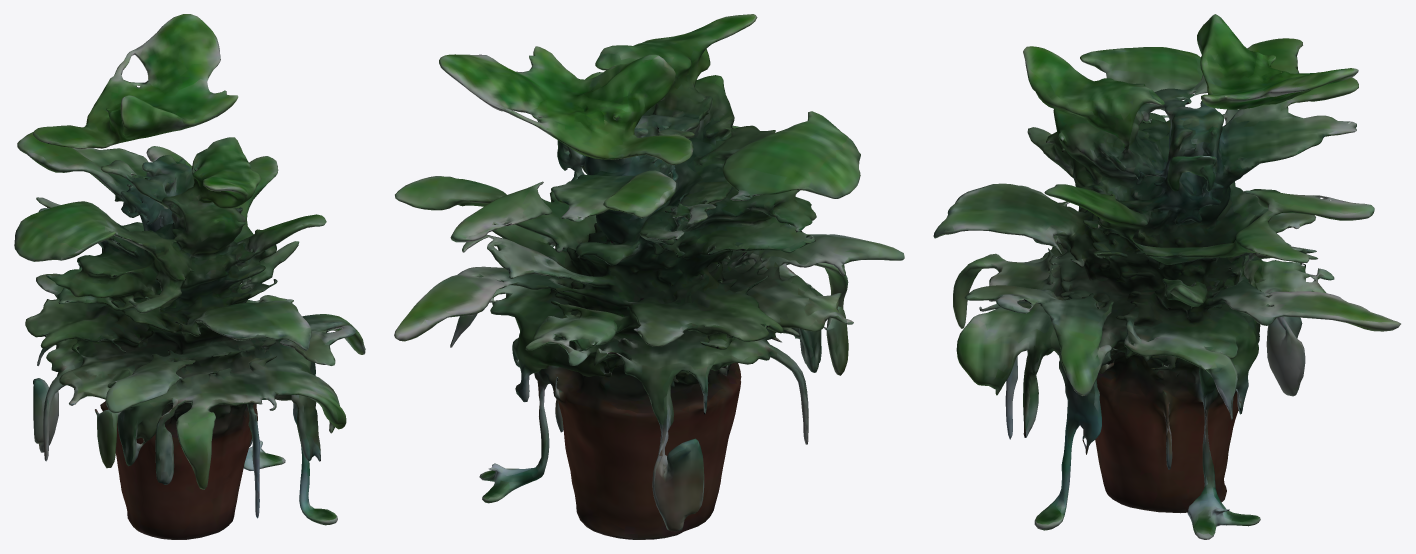
Rendered from 1da76f8f32f4_indoor_plant_in_pai.fbx.
3 views of the same model, side by side, from view 1: azimuth 30°, elevation 25°; view 2: azimuth 150°, elevation 25°; view 3: azimuth 270°, elevation 25° (orthographic). The views are drawn at different scales.
Visible parts, largest first — view 1: high_poly; view 2: high_poly; view 3: high_poly.
Boxes of the visible parts, box(x1,y1,x2,y2) form: high_poly: box(14, 14, 365, 539); high_poly: box(394, 14, 904, 539); high_poly: box(933, 14, 1400, 539).
Size of the model in its own units: 78.51 by 100 by 90.2.
